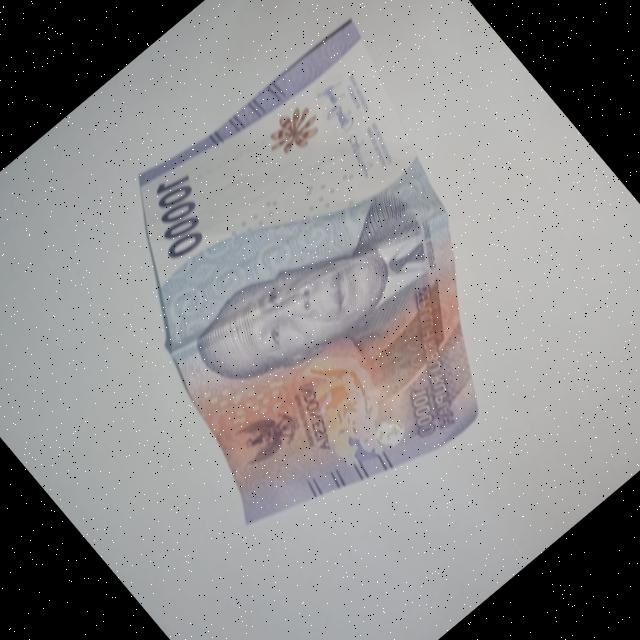10K: (19, 0, 614, 585)
